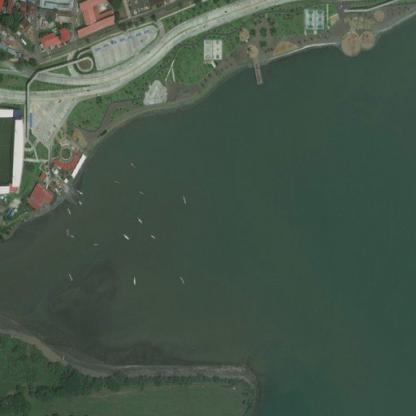ship: (63, 272, 71, 281), (63, 207, 71, 215), (2, 36, 10, 43), (165, 275, 172, 283), (24, 232, 31, 239), (63, 228, 68, 237), (7, 276, 11, 287), (168, 193, 172, 203), (76, 198, 81, 206), (0, 233, 4, 242), (0, 190, 7, 194), (0, 217, 5, 221), (92, 241, 97, 245), (69, 233, 73, 238), (76, 189, 81, 193), (114, 181, 117, 181)
